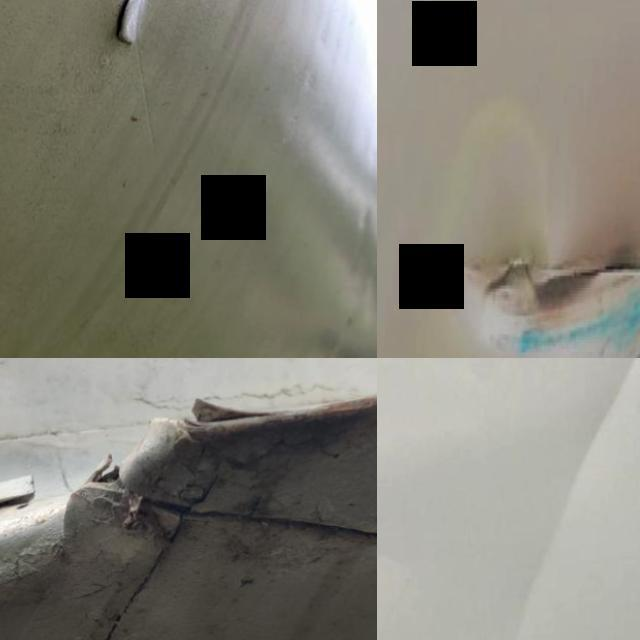Crack: (446, 49, 640, 358), (148, 384, 296, 451), (64, 433, 150, 509), (100, 0, 165, 58)
Dent: (512, 358, 640, 640), (377, 531, 423, 579)
